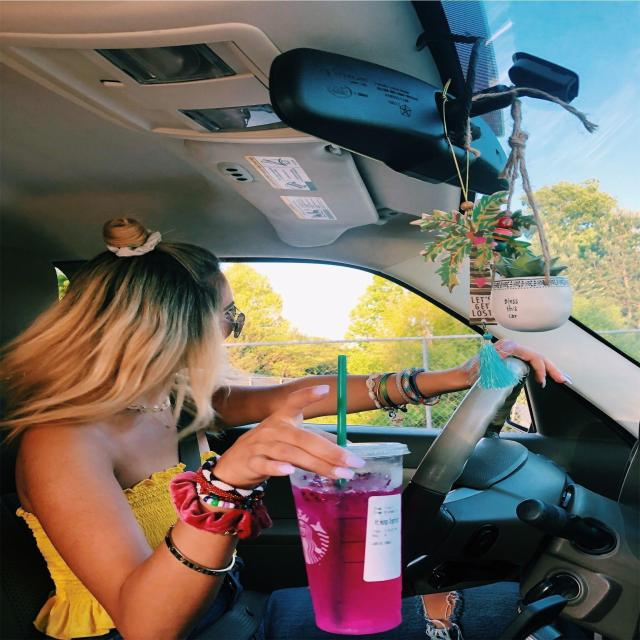cup-disposable: (290, 442, 410, 636)
